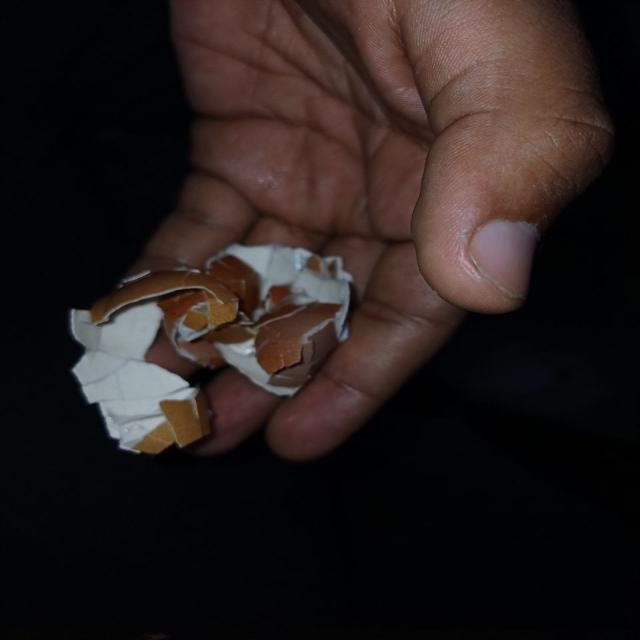organic: (69, 244, 354, 455)
